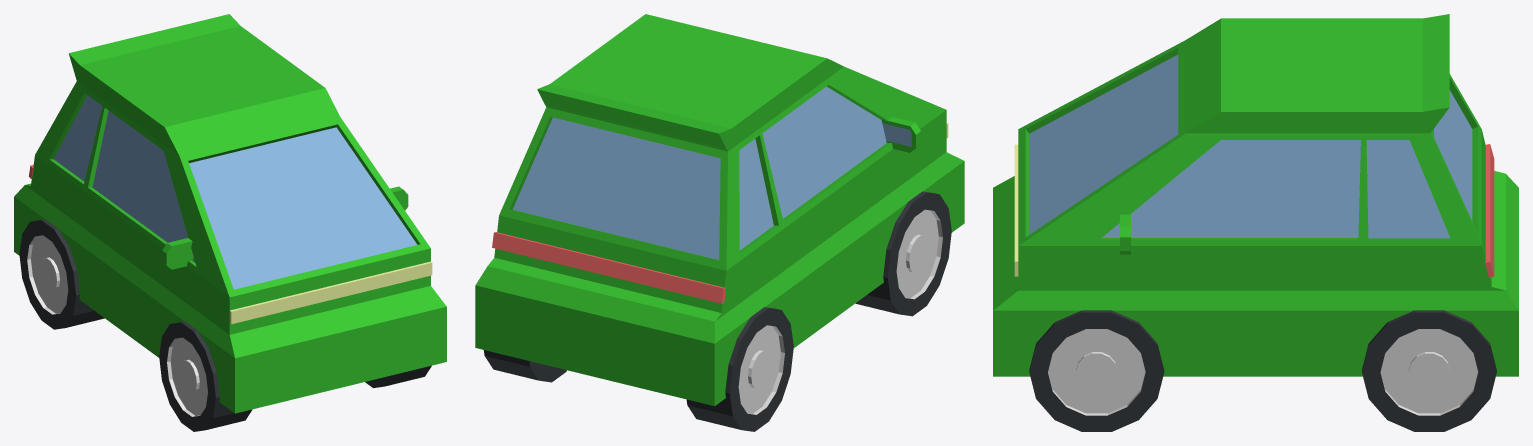
The model's file is car-2.glb.
3 renders of one model, left to right at view 1: azimuth 30°, elevation 25°; view 2: azimuth 150°, elevation 25°; view 3: azimuth 270°, elevation 25°, orthographic. The views are drawn at different scales.
Parts seen in each view (by area): view 1: Cube, Cylinder.001, Cylinder.002, Cube.001, Cube.002; view 2: Cube, Cylinder.002, Cylinder.001, Cube.003, Cube.002; view 3: Cube, Cylinder.002, Cylinder.001, Cube.003, Cube.001.
Part boxes in pixels (bbox=[...]): Cube: bbox=[14, 14, 446, 413]; Cylinder.001: bbox=[159, 321, 431, 431]; Cylinder.002: bbox=[19, 219, 104, 329]; Cube.001: bbox=[229, 261, 432, 324]; Cube.002: bbox=[162, 186, 408, 269]; Cube: bbox=[475, 14, 964, 406]; Cylinder.002: bbox=[483, 307, 793, 431]; Cylinder.001: bbox=[855, 191, 951, 316]; Cube.003: bbox=[492, 232, 725, 303]; Cube.002: bbox=[881, 117, 920, 152]; Cube: bbox=[993, 14, 1518, 376]; Cylinder.002: bbox=[1362, 310, 1496, 431]; Cylinder.001: bbox=[1029, 310, 1164, 431]; Cube.003: bbox=[1485, 144, 1494, 277]; Cube.001: bbox=[1014, 144, 1018, 276].
Size of the model in its own units: 2.4 by 2.45 by 3.8.
